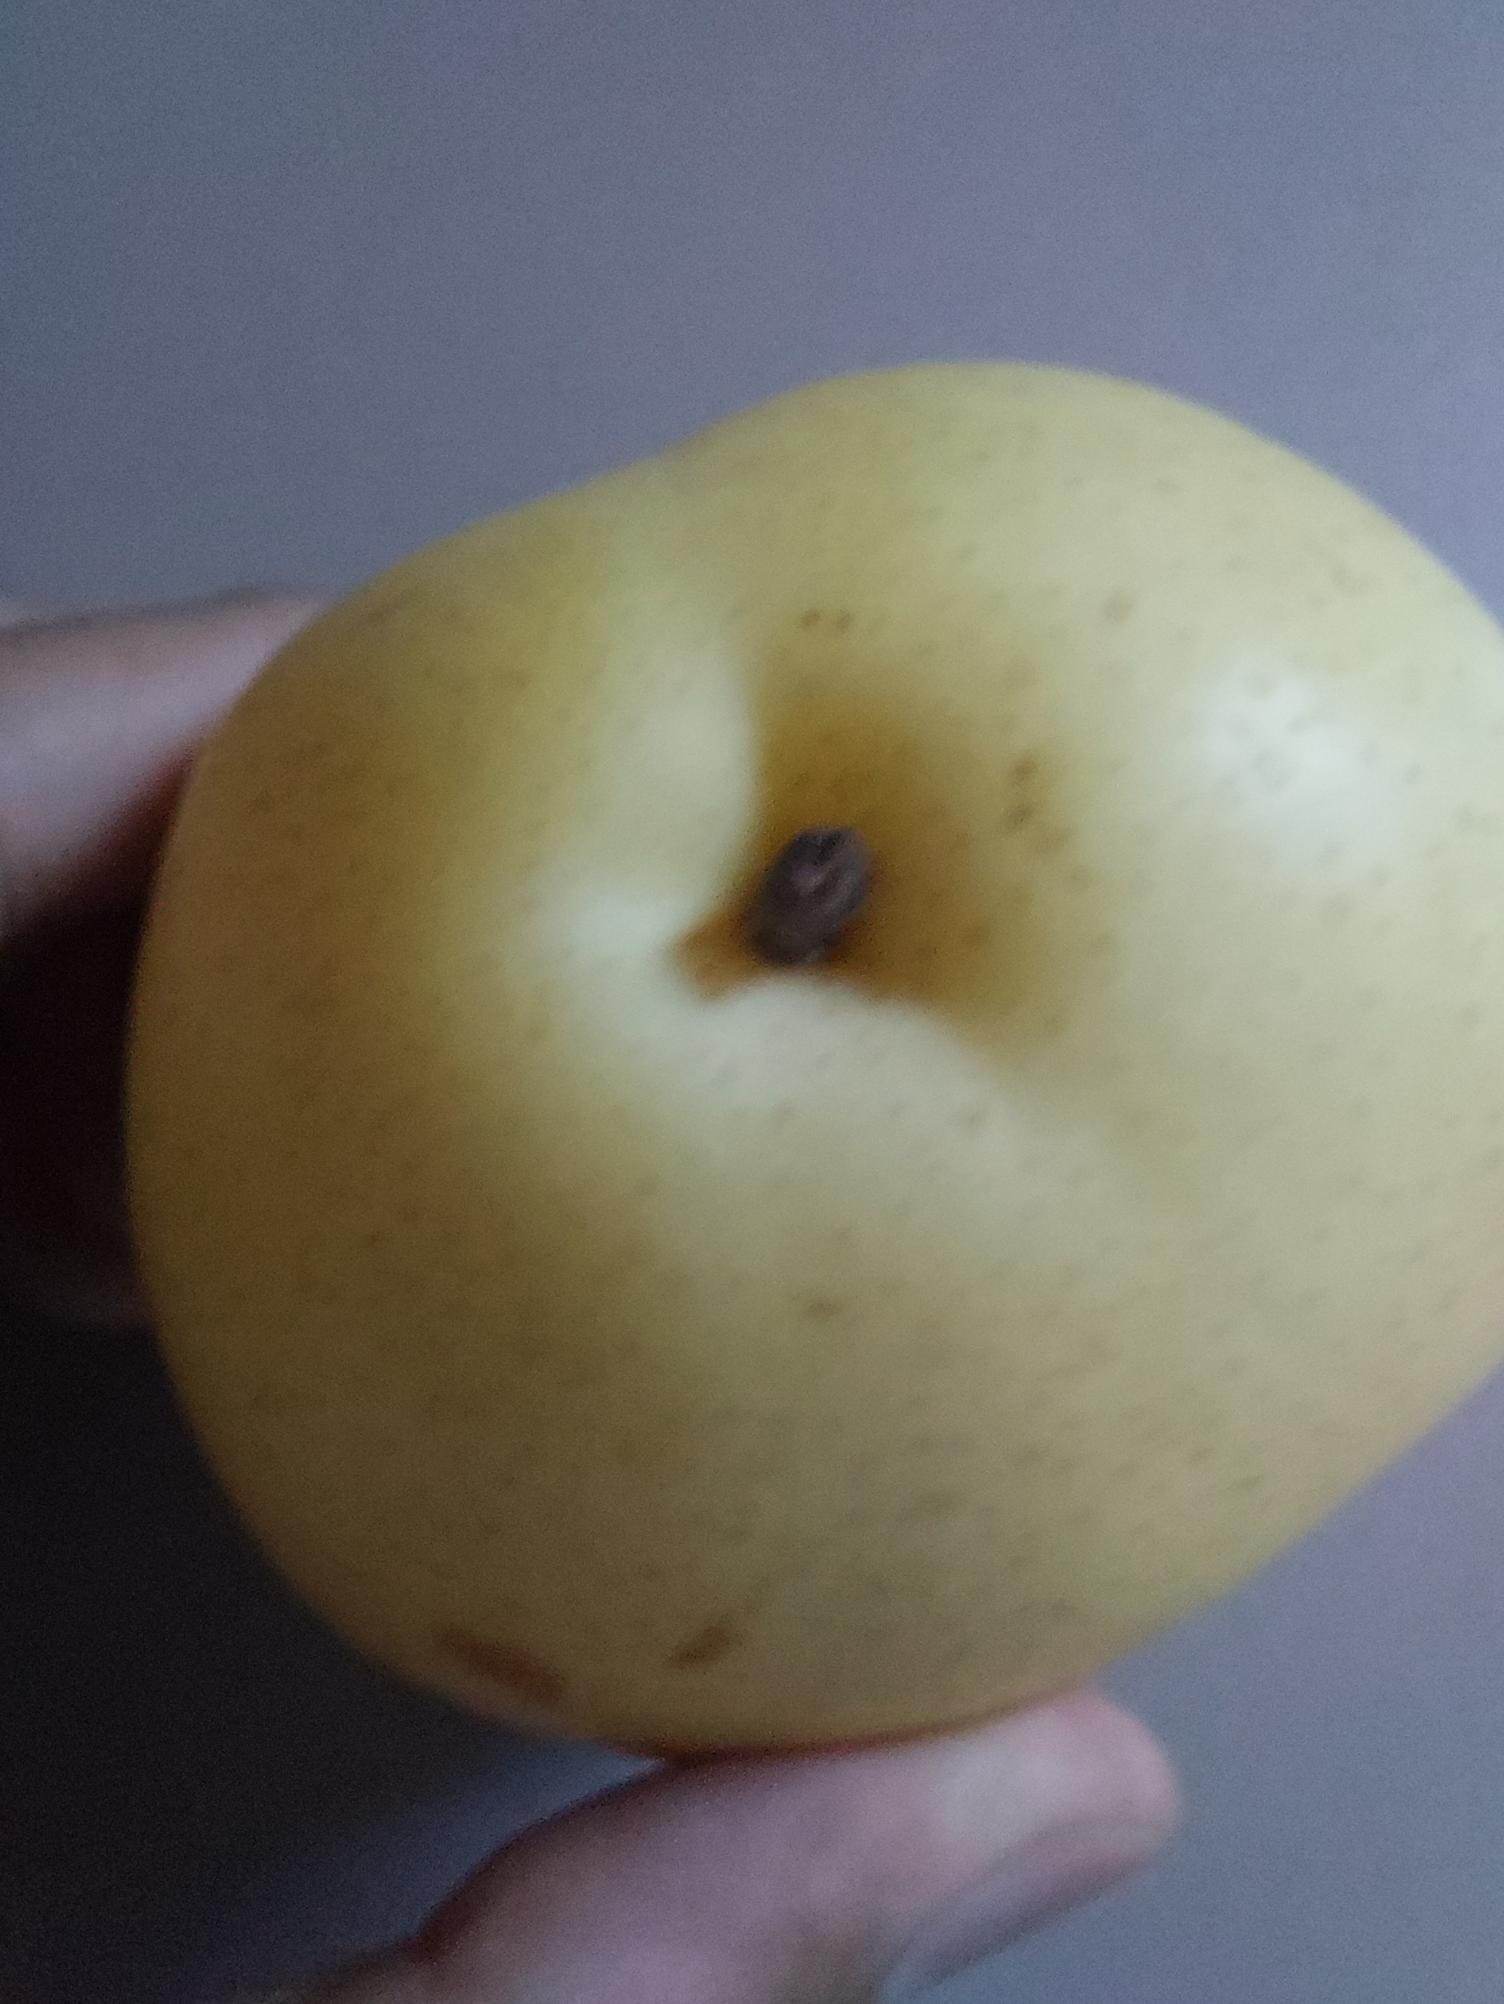Good Pear: (133, 370, 1504, 1745)
